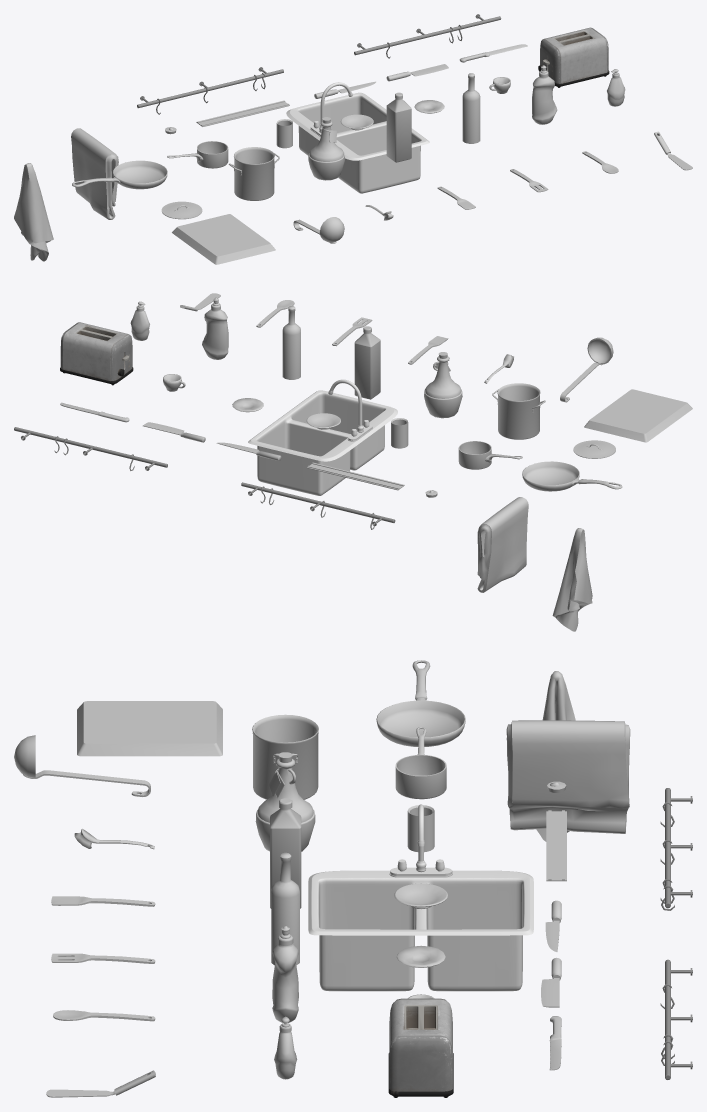
Rendered from KitchenUtenils.fbx.
3 renders of one model, top to bottom at view 1: azimuth 30°, elevation 25°; view 2: azimuth 150°, elevation 25°; view 3: azimuth 270°, elevation 25°, orthographic. The views are drawn at different scales.
Visible parts, largest first — view 1: KitchenSink, Toaster_A, board_A, Towel_B, Towel_A, Pot_A, Sunflower_Oil_A, Pan_A, Olive_Oil_A, Detergent_A, Wine_Bottle_A, Pan_Copper_A (+8 smaller); view 2: KitchenSink, Toaster_A, Towel_B, board_A, Pot_A, Towel_A, Sunflower_Oil_A, Pan_A, Olive_Oil_A, Detergent_A, Wine_Bottle_A, Pan_Copper_A (+7 smaller); view 3: KitchenSink, Towel_B, board_A, Toaster_A, Pot_A, Pan_A, Olive_Oil_A, Pan_Copper_A, Sunflower_Oil_A, Detergent_A, Wine_Bottle_A, Ladle_A (+13 smaller).
Boxes of the visible parts, x1=… form: KitchenSink: x1=286, y1=92, x2=429, y2=193; Toaster_A: x1=538, y1=27, x2=609, y2=87; board_A: x1=172, y1=214, x2=275, y2=264; Towel_B: x1=71, y1=128, x2=118, y2=219; Towel_A: x1=14, y1=163, x2=53, y2=261; Pot_A: x1=228, y1=147, x2=279, y2=200; Sunflower_Oil_A: x1=386, y1=92, x2=411, y2=162; Pan_A: x1=72, y1=160, x2=167, y2=189; Olive_Oil_A: x1=308, y1=117, x2=344, y2=180; Detergent_A: x1=532, y1=65, x2=557, y2=124; Wine_Bottle_A: x1=462, y1=73, x2=480, y2=143; Pan_Copper_A: x1=167, y1=141, x2=228, y2=168; KitchenSink: x1=248, y1=390, x2=397, y2=495; Toaster_A: x1=60, y1=322, x2=133, y2=385; Towel_B: x1=477, y1=497, x2=528, y2=592; board_A: x1=584, y1=389, x2=692, y2=442; Pot_A: x1=492, y1=383, x2=545, y2=439; Towel_A: x1=552, y1=528, x2=592, y2=631; Sunflower_Oil_A: x1=354, y1=326, x2=380, y2=399; Pan_A: x1=522, y1=461, x2=622, y2=491; Olive_Oil_A: x1=424, y1=352, x2=462, y2=418; Detergent_A: x1=202, y1=297, x2=228, y2=359; Wine_Bottle_A: x1=282, y1=306, x2=300, y2=379; Pan_Copper_A: x1=458, y1=441, x2=522, y2=469; KitchenSink: x1=308, y1=867, x2=533, y2=991; Towel_B: x1=506, y1=720, x2=630, y2=833; board_A: x1=77, y1=701, x2=222, y2=756; Toaster_A: x1=388, y1=998, x2=453, y2=1097; Pot_A: x1=252, y1=714, x2=318, y2=799; Pan_A: x1=376, y1=660, x2=465, y2=746; Olive_Oil_A: x1=255, y1=752, x2=315, y2=851; Pan_Copper_A: x1=395, y1=727, x2=446, y2=799; Sunflower_Oil_A: x1=270, y1=798, x2=301, y2=908; Detergent_A: x1=272, y1=926, x2=298, y2=1022; Wine_Bottle_A: x1=271, y1=852, x2=299, y2=965; Ladle_A: x1=14, y1=735, x2=150, y2=796.
Bounding box in the file's own units: 371 × 107 × 250.
